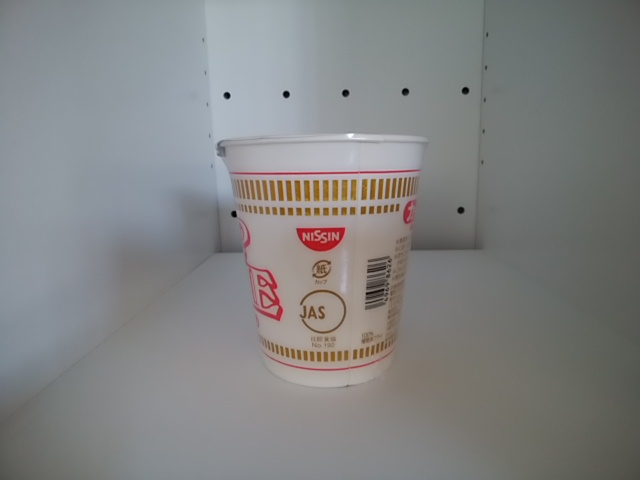cup-ramen: (210, 131, 432, 396)
